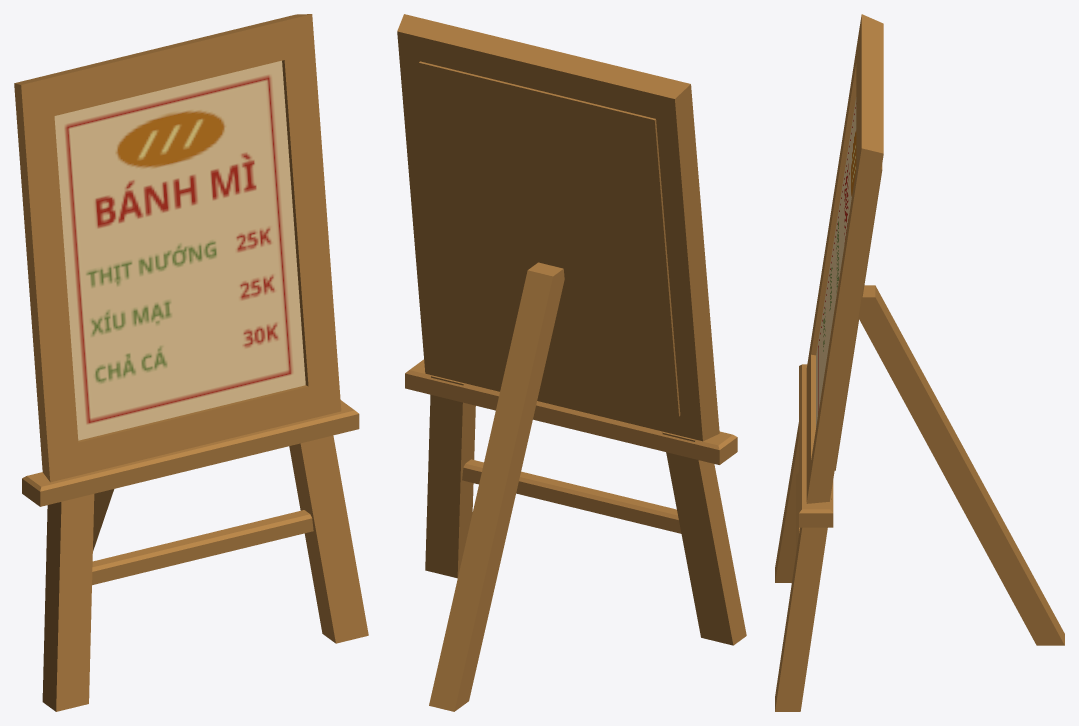
File: SM_Sign_MenuEasel_01.fbx
3 views of the same model, side by side, from view 1: azimuth 30°, elevation 25°; view 2: azimuth 150°, elevation 25°; view 3: azimuth 270°, elevation 25° (orthographic). The views are drawn at different scales.
Visible parts, largest first — view 1: SM_Sign_MenuEasel_01; view 2: SM_Sign_MenuEasel_01; view 3: SM_Sign_MenuEasel_01.
Boxes of the visible parts, left/top/right/bottom form: SM_Sign_MenuEasel_01: left=14, top=14, right=368, bottom=711; SM_Sign_MenuEasel_01: left=397, top=14, right=746, bottom=711; SM_Sign_MenuEasel_01: left=775, top=14, right=1064, bottom=711.
Size of the model in its own units: 0.68 by 1.2 by 0.5654.
1 material, 1 textured.
